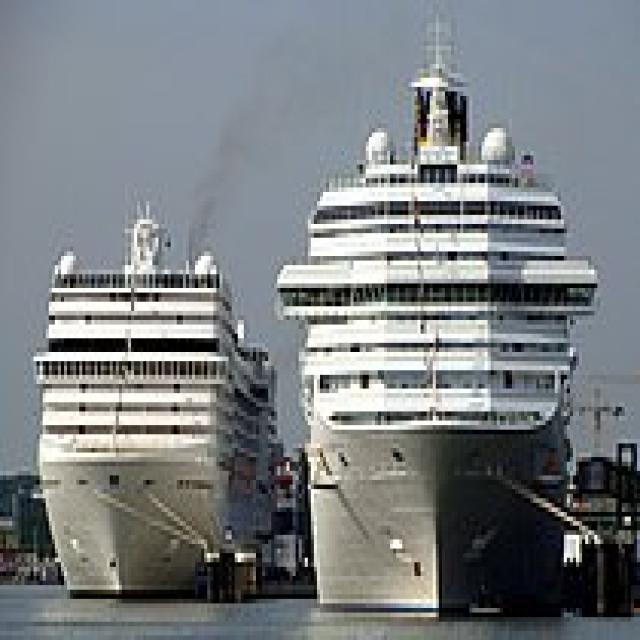Cruise: (268, 9, 600, 622), (24, 192, 278, 599)
